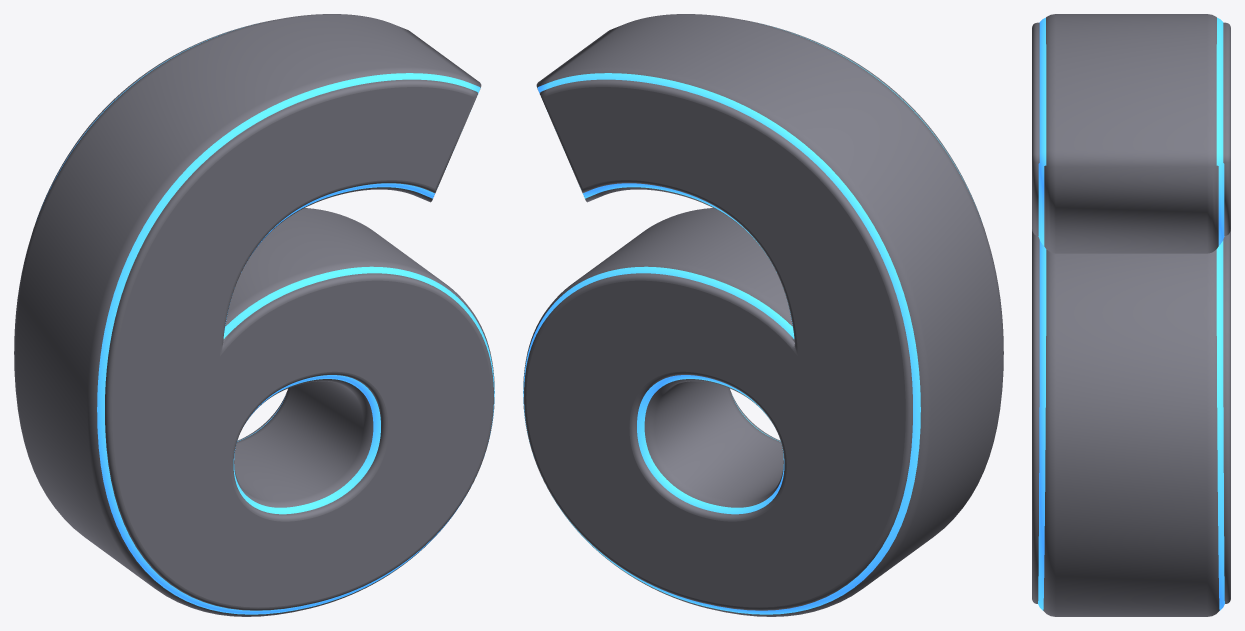
3 views of the same model, side by side, from view 1: azimuth 30°, elevation 25°; view 2: azimuth 150°, elevation 25°; view 3: azimuth 270°, elevation 25° (orthographic). The views are drawn at different scales.
Visible parts, largest first — view 1: N_6_smaller_2, N_6_side_1, N_6_border_0; view 2: N_6_smaller_2, N_6_side_1, N_6_border_0; view 3: N_6_side_1, N_6_smaller_2, N_6_border_0.
Boxes of the visible parts, x1,y1,x2,y2 form: N_6_smaller_2: [33, 20, 493, 610]; N_6_side_1: [14, 14, 494, 616]; N_6_border_0: [41, 27, 494, 614]; N_6_smaller_2: [524, 20, 984, 610]; N_6_side_1: [523, 14, 1003, 616]; N_6_border_0: [523, 27, 976, 614]; N_6_side_1: [1043, 14, 1219, 616]; N_6_smaller_2: [1032, 22, 1230, 603]; N_6_border_0: [1038, 17, 1224, 610].
Bounding box in the file's own units: 0.4607 × 0.5695 × 0.184.
